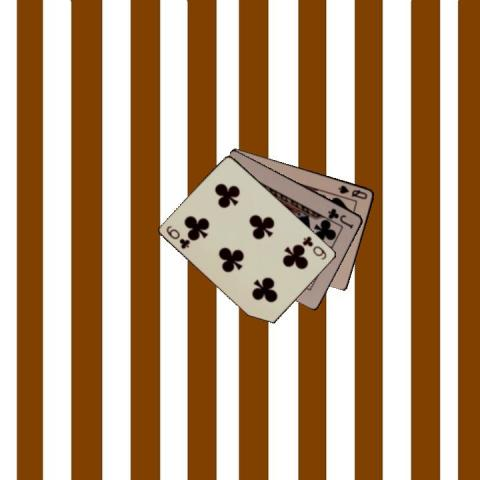6c: (300, 234, 328, 262), (164, 222, 192, 250)
Jc: (325, 206, 355, 230)
Qs: (336, 182, 370, 201)
